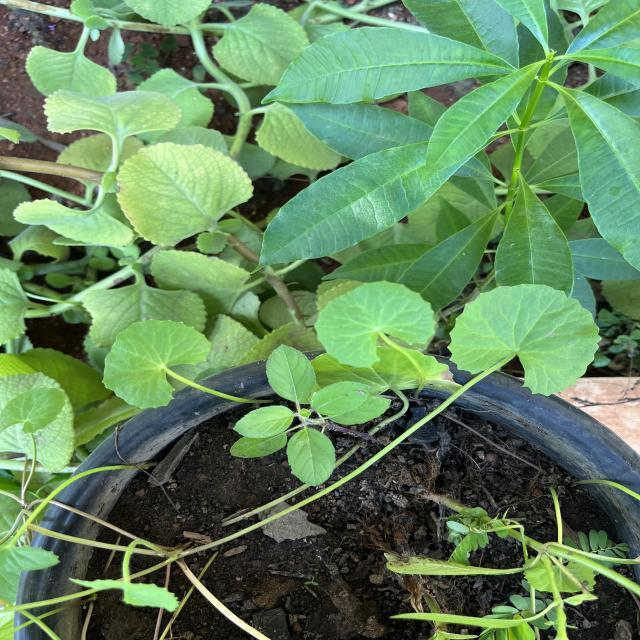Centella asiatica: (445, 282, 605, 399), (100, 317, 214, 412), (0, 384, 67, 436)
